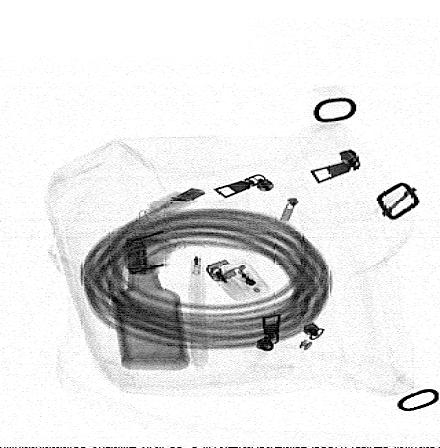Lighter: (205, 257, 270, 303)
